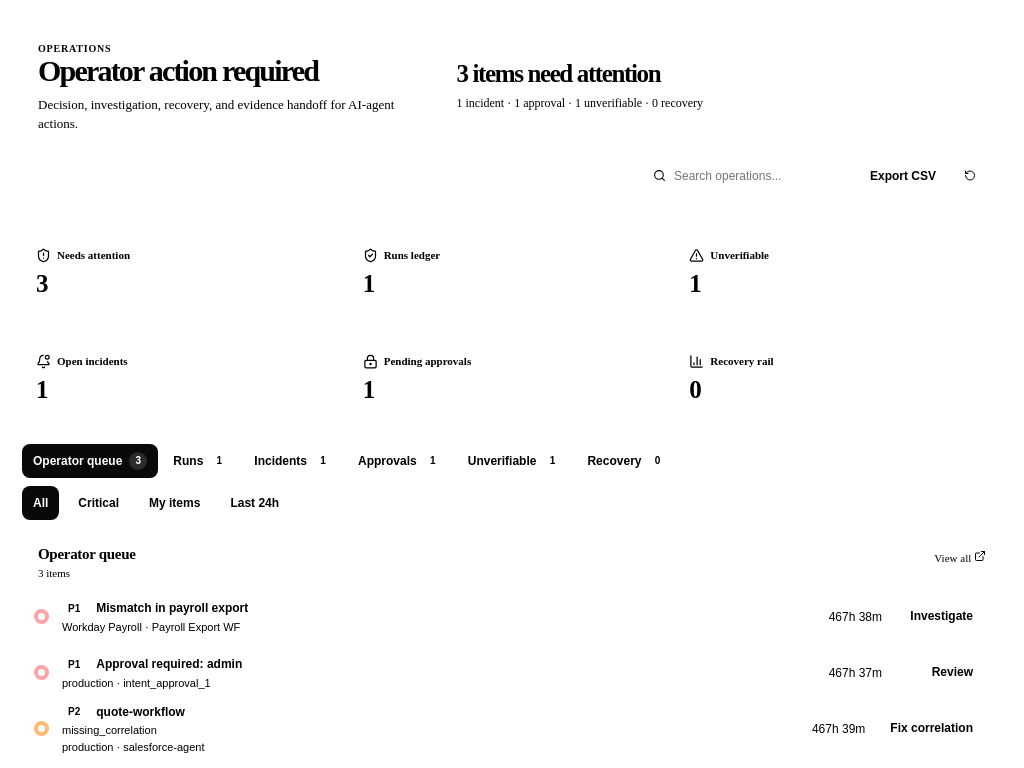
Test case: OperationsPage › renders unverifiable reason codes with reason-specific actions
Click the button "Unverifiable 1" at (515, 461), box top-left (457, 444), bottom-right (572, 478)
(page scrolled)
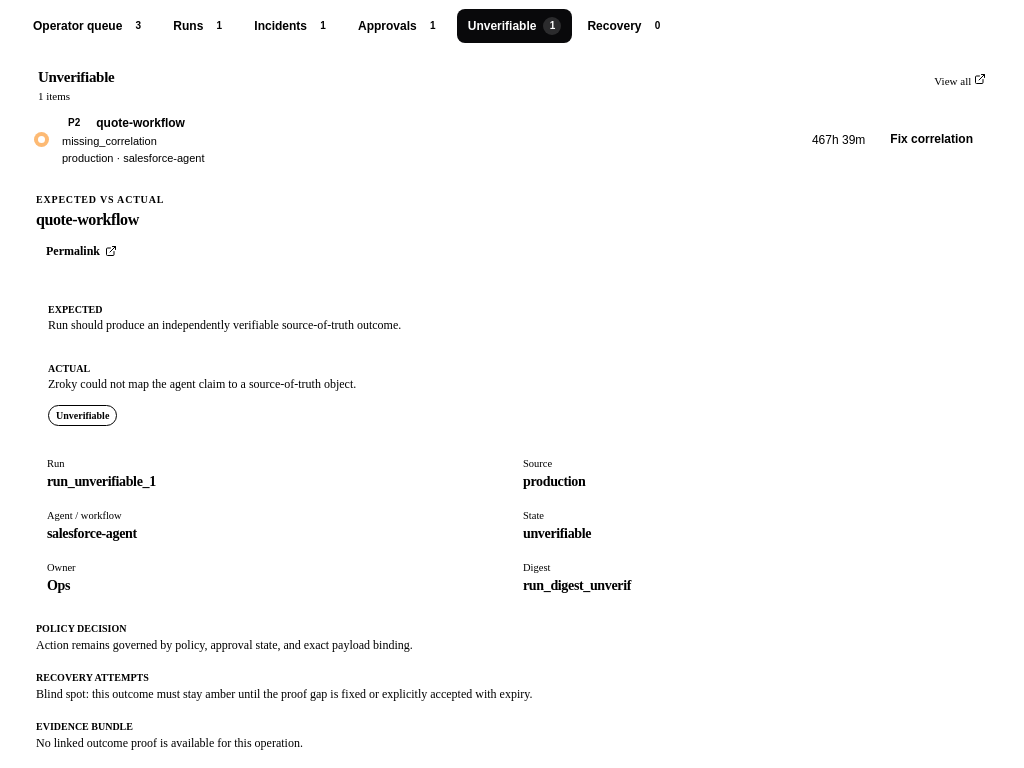
Expected: the text "missing_correlation" is shown, top-left (62, 135), bottom-right (157, 147)
Expected: the text "Zroky could not map the agent claim to a source-of-truth object." is shown, top-left (48, 377), bottom-right (356, 391)
